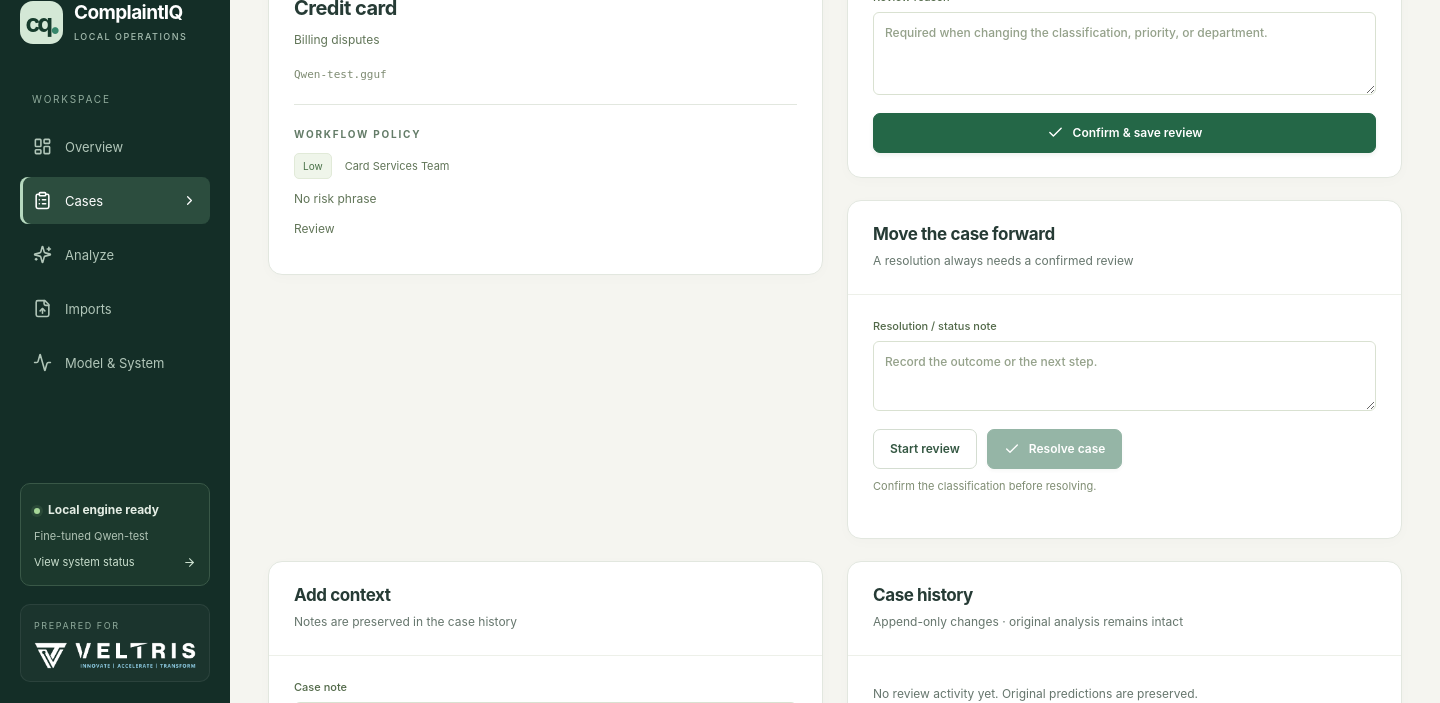
Test: requires a confirmed review and reason before resolution
This screenshot has width=1440, height=703.
(page scrolled)
Check: the text box labelled "Review reason" is shown, box x1=873 y1=12 x2=1376 y2=95
Check: the button "Resolve case" is disabled, box x1=987 y1=429 x2=1122 y2=469
Type "Resolved after review" into the text box labelled "Resolution / status note" at (1124, 376), box x1=873 y1=341 x2=1376 y2=411
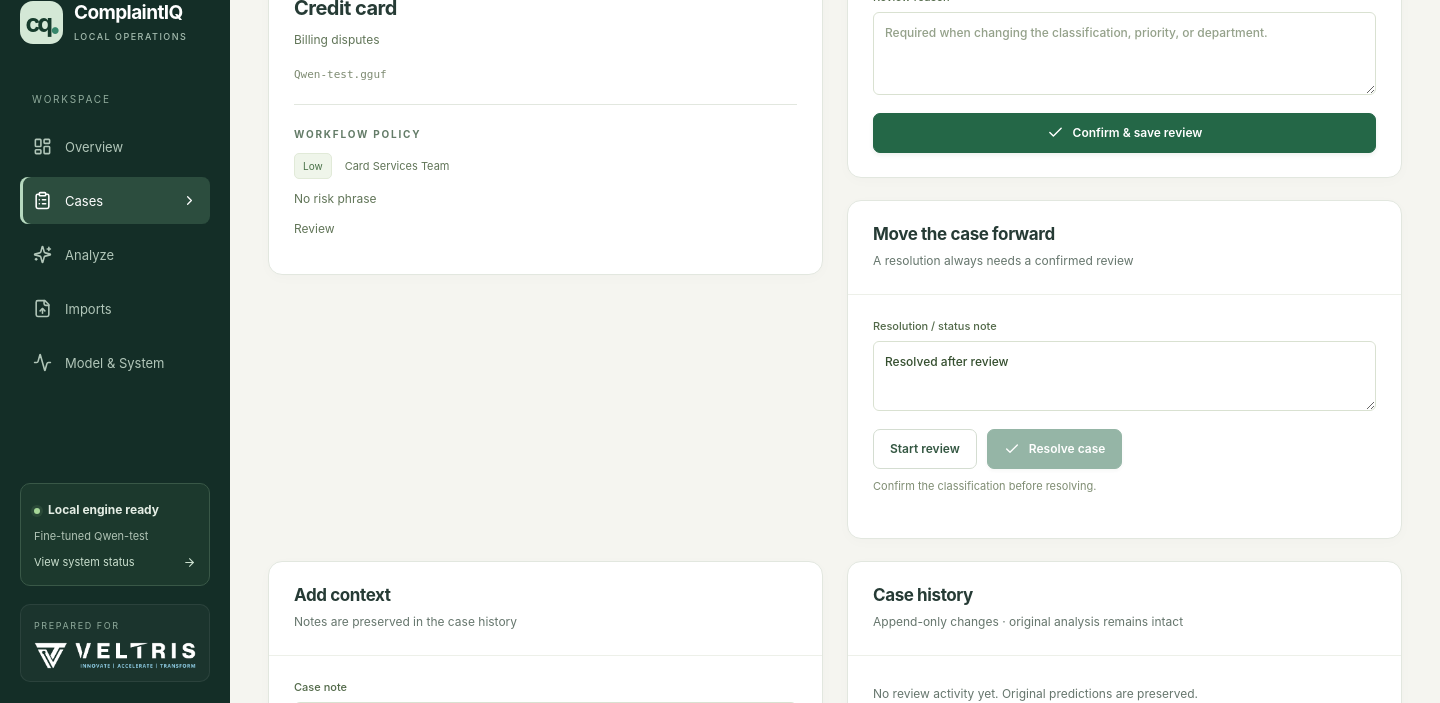
Check: the button "Resolve case" is disabled, box x1=987 y1=429 x2=1122 y2=469
Click the button "Confirm & save review" at (1124, 133), box x1=873 y1=113 x2=1376 y2=153
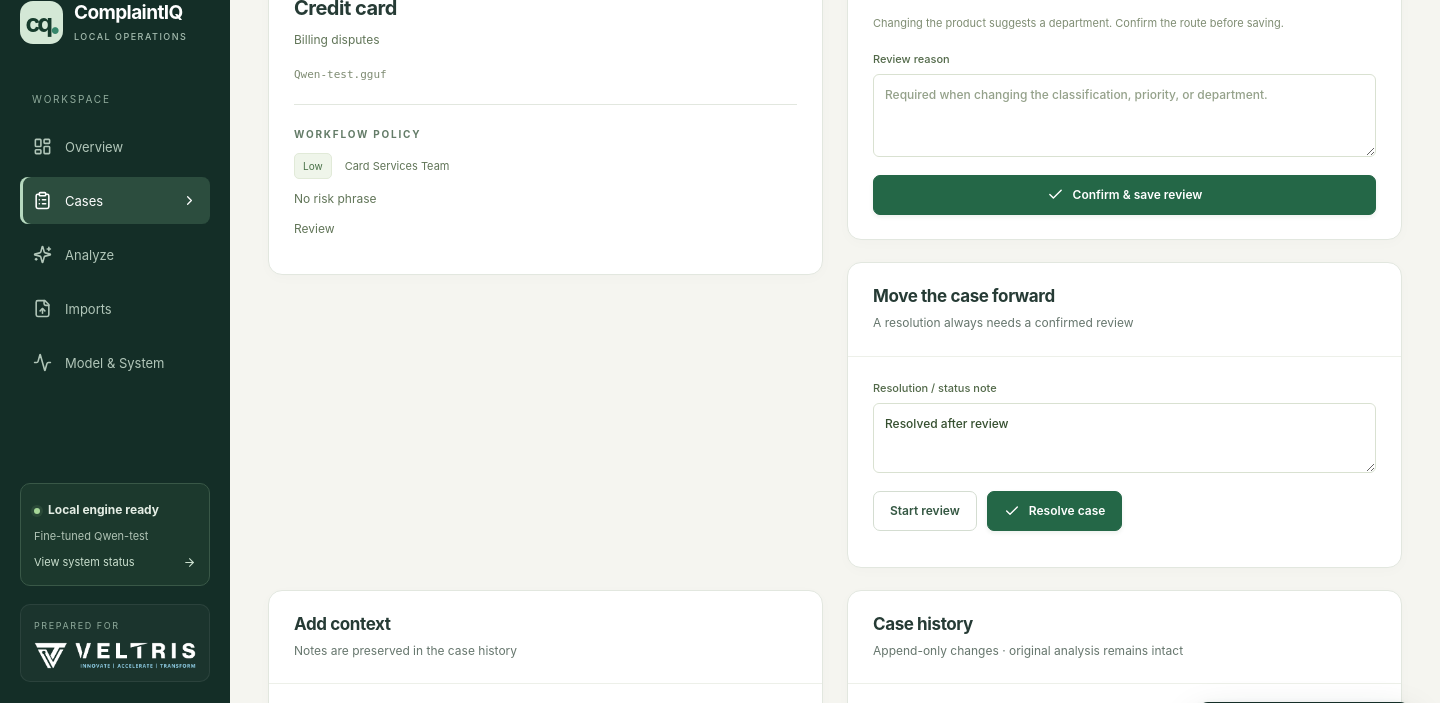
Check: the button "Resolve case" is enabled, box x1=987 y1=491 x2=1122 y2=531
